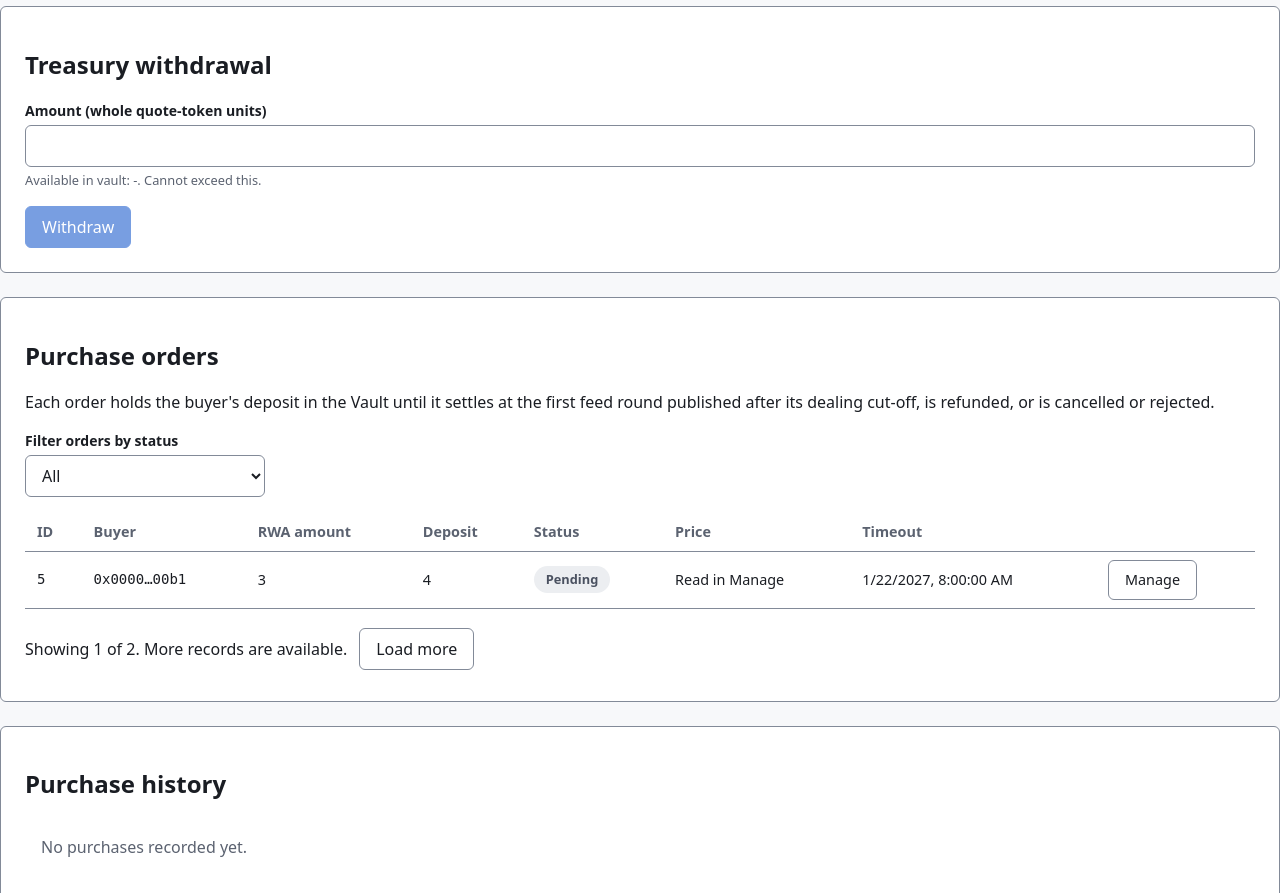
Test case: InventorySales on a forward-priced project › purchase orders table › loads the next page with the cursor from the previous one
(page scrolled)
Expected: the text "Showing 1 of 2. More records are available." is shown, [25, 636, 347, 660]
Click the button "Load more".
click(417, 648)  # box [359, 628, 474, 670]
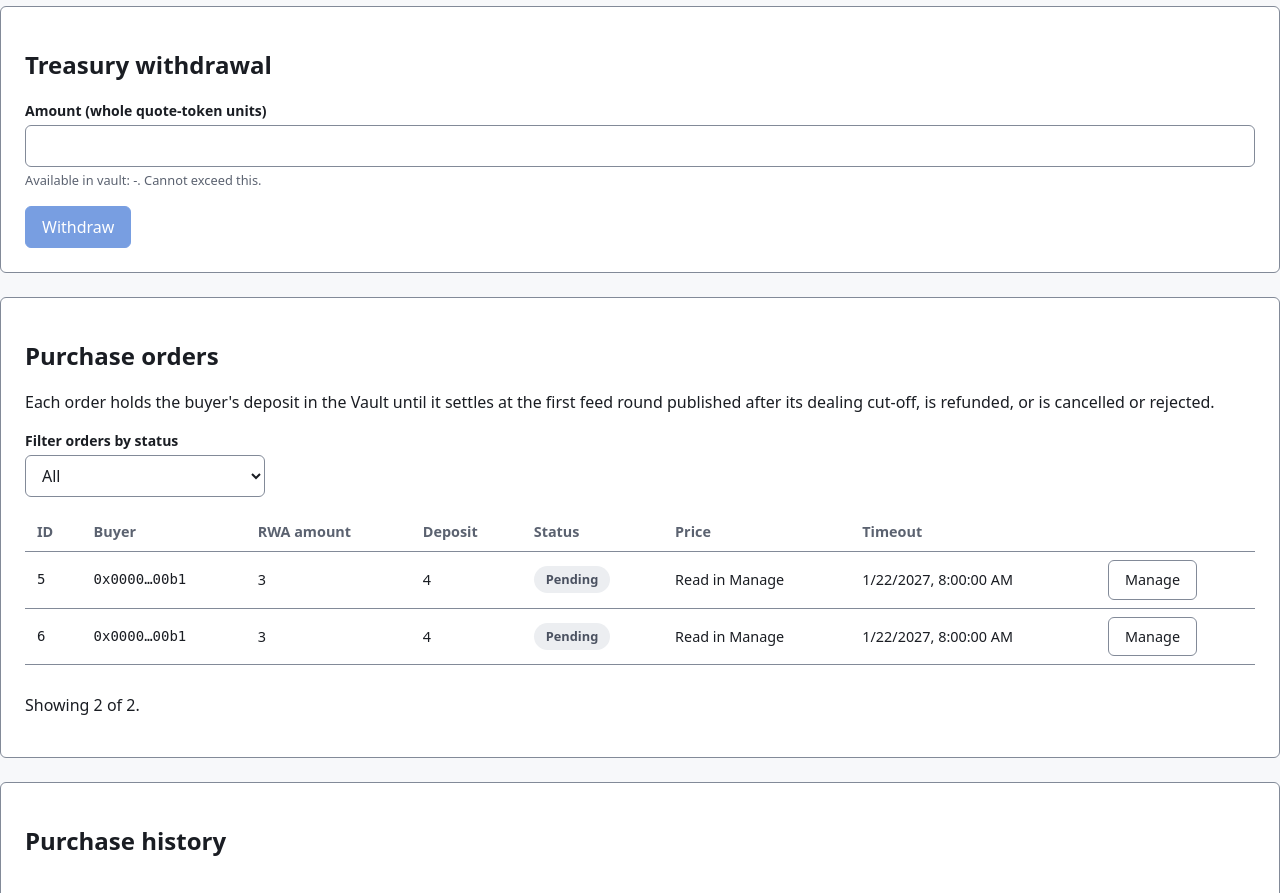
Expected: the text "5" is shown, [25, 551, 82, 608]
Expected: the text "6" is shown, [25, 608, 82, 665]
